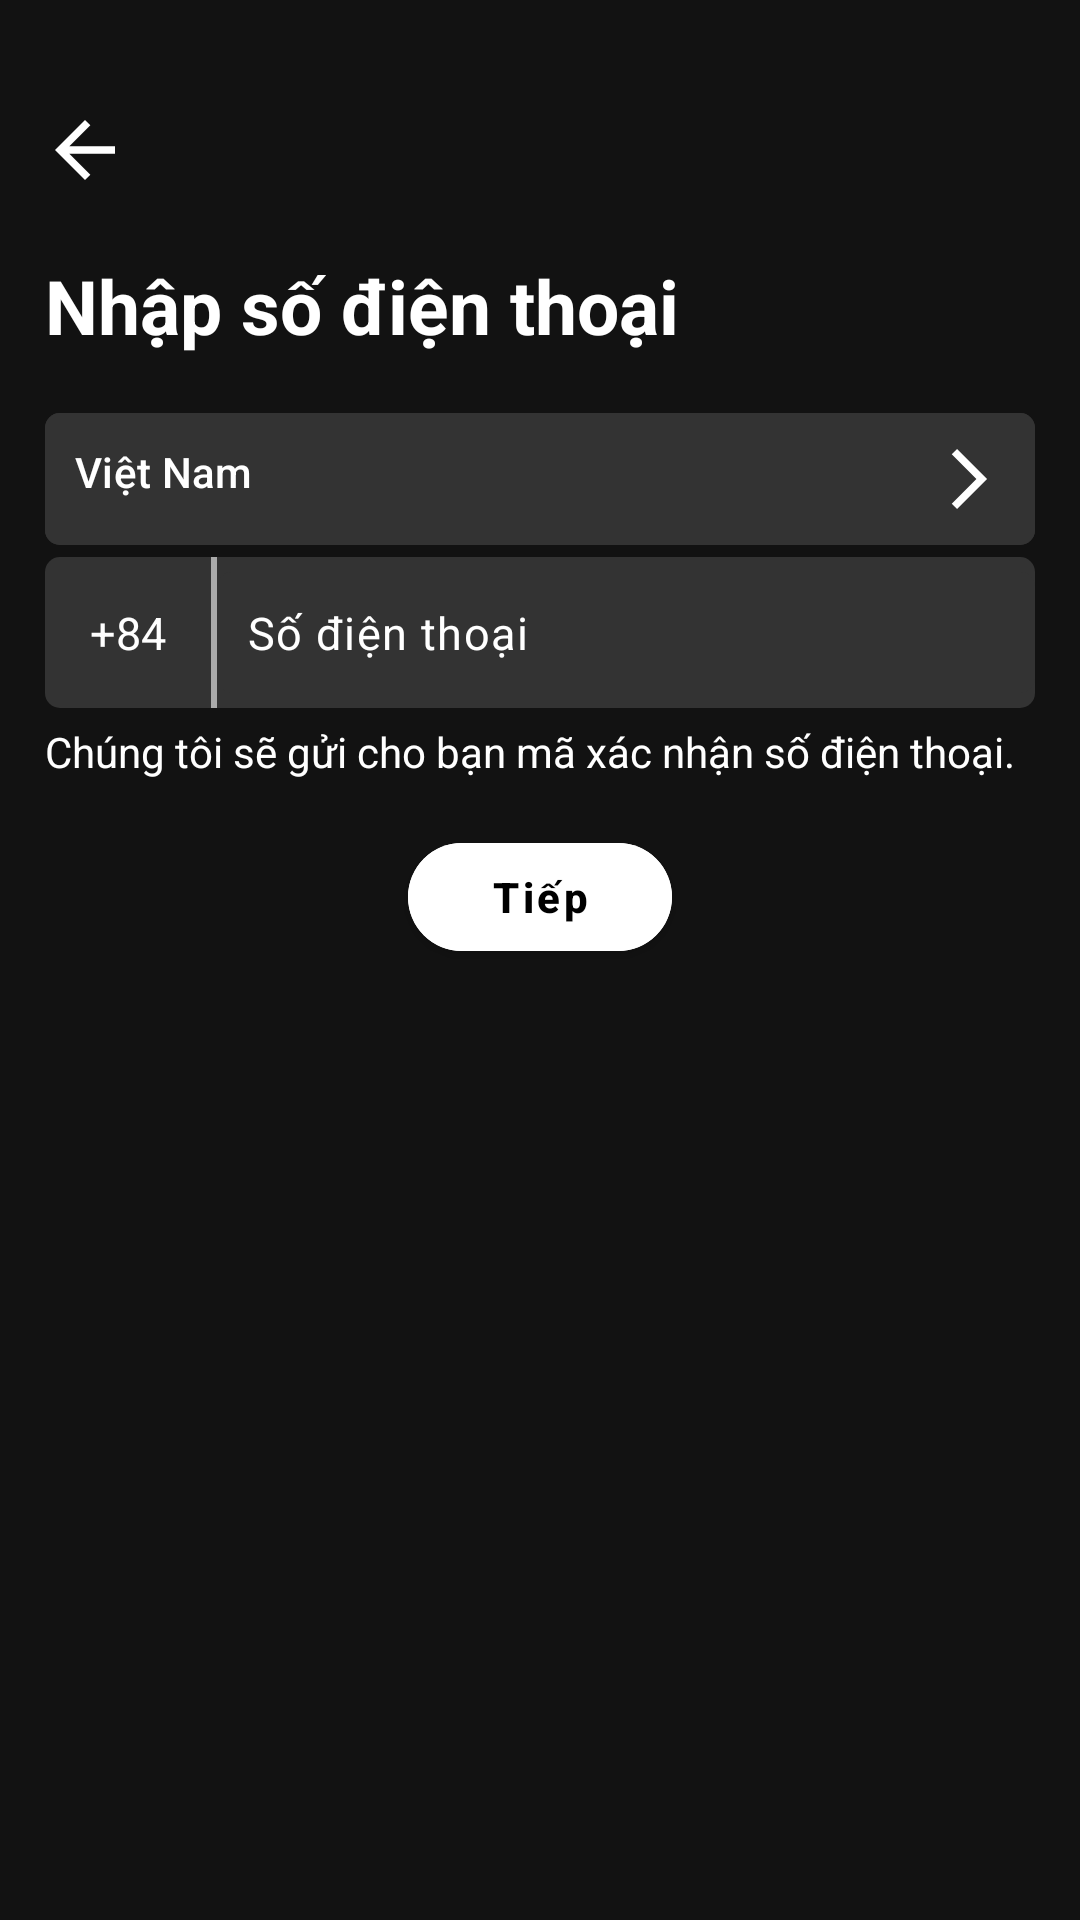

Named icons in this screenshot (1080w x 1920h) and their bounding boxes, region(x1, y1, x2, y2):
arrow back: region(55, 120, 115, 180)
